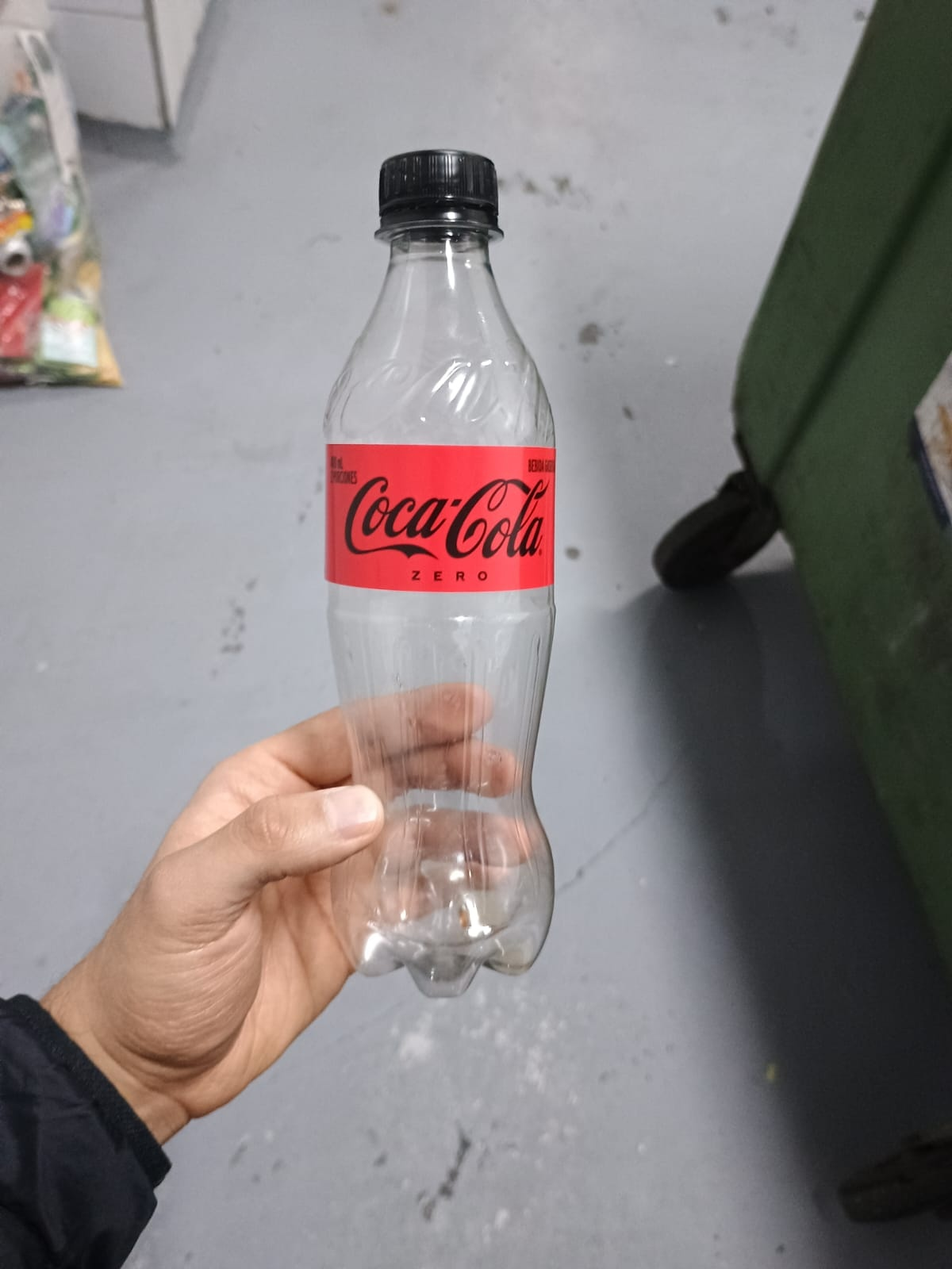Plastico: (320, 149, 558, 1002)
